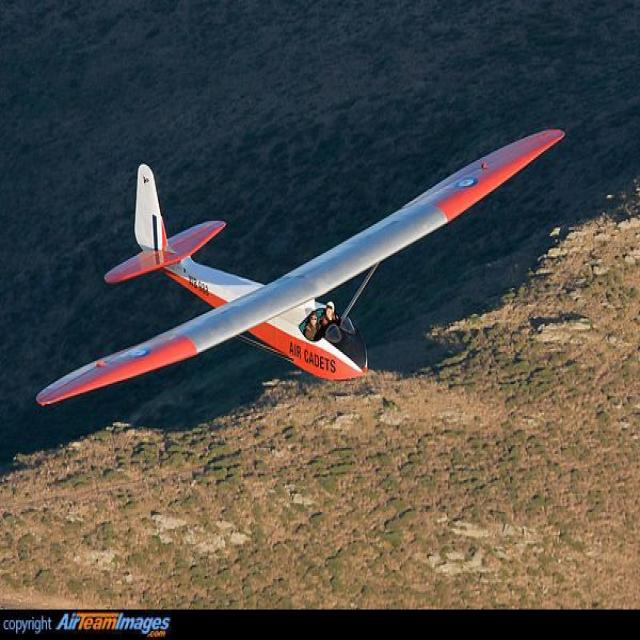iha: (34, 115, 567, 407)
